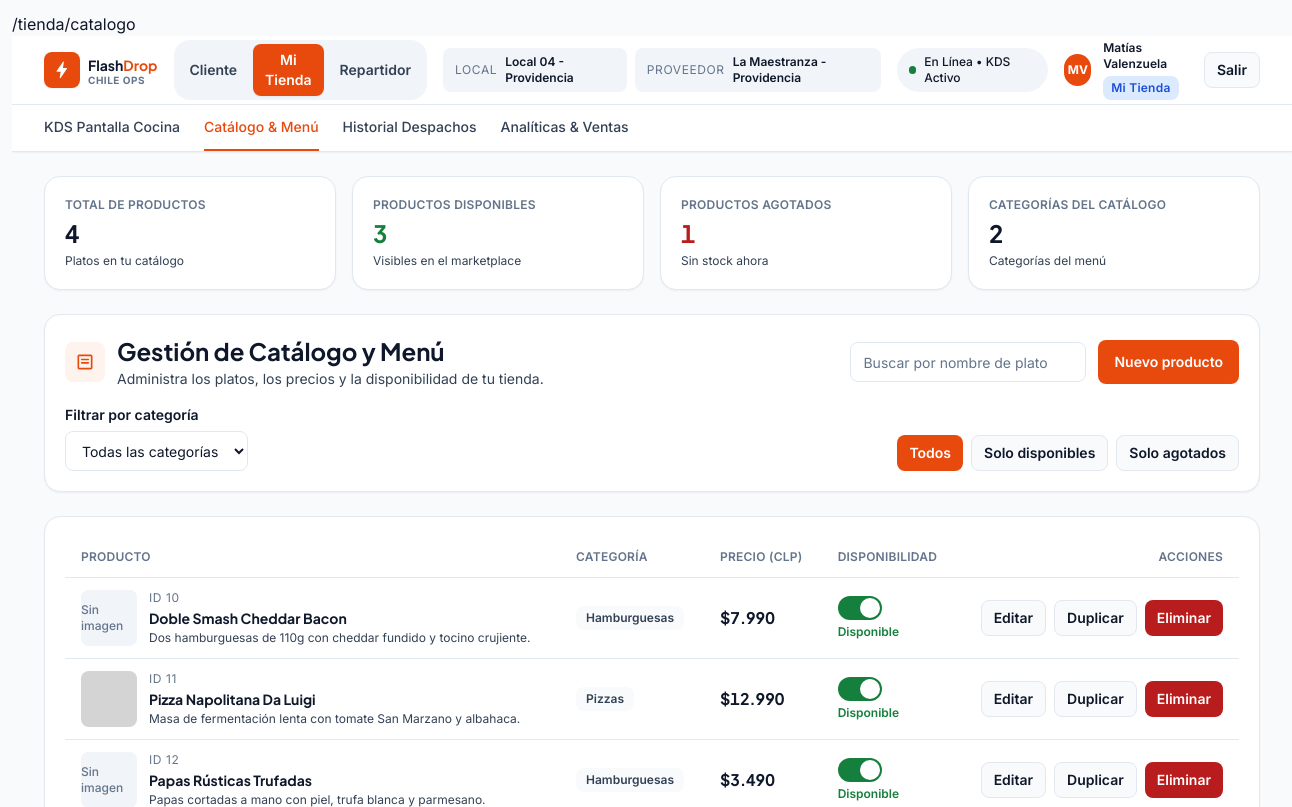
store catalog management › updates availability with a full product replacement and follows the backend response
This screenshot has width=1292, height=807.
Click the checkbox named "Disponibilidad de Doble Smash Cheddar Bacon": (860, 608) [838, 596, 882, 620]
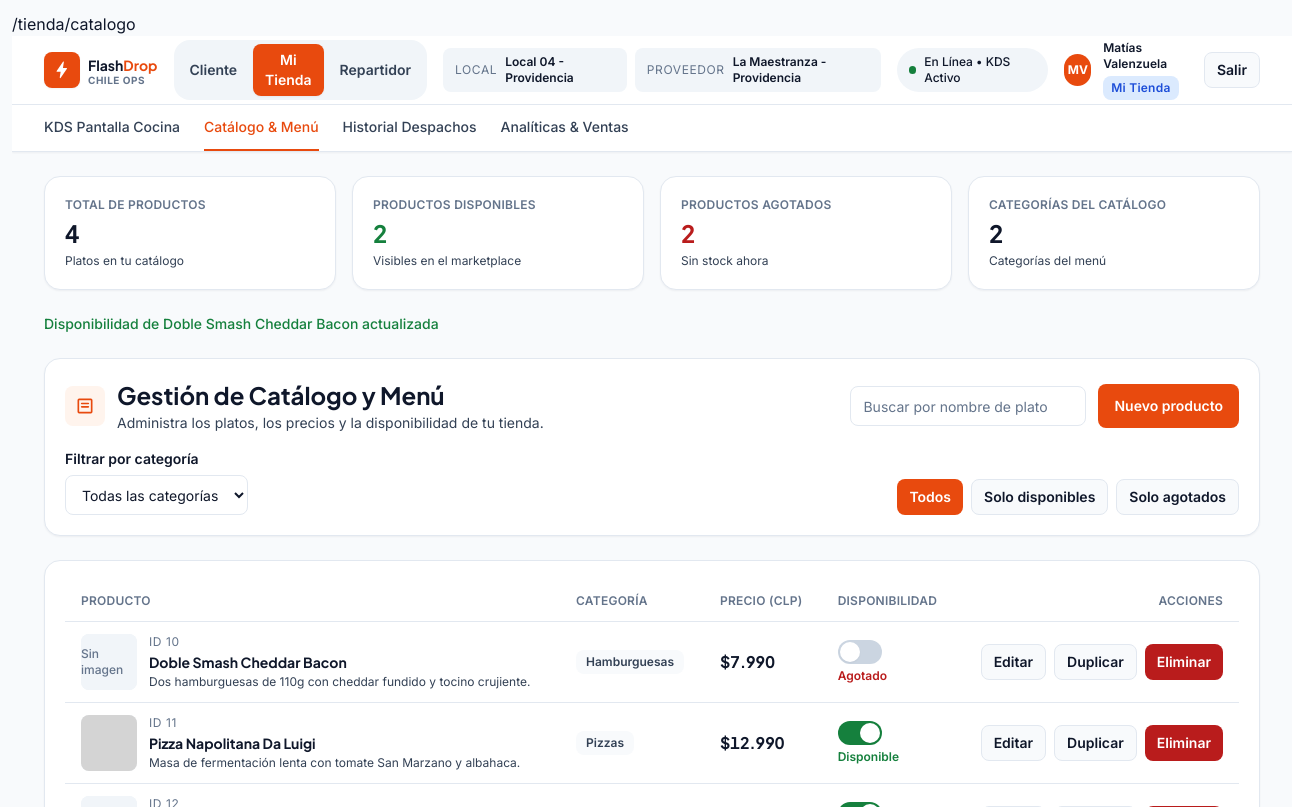
Expected: the checkbox named "Disponibilidad de Doble Smash Cheddar Bacon" is not checked, [838, 640, 882, 664]
Expected: the text "Agotado" is shown, [838, 668, 887, 684]
